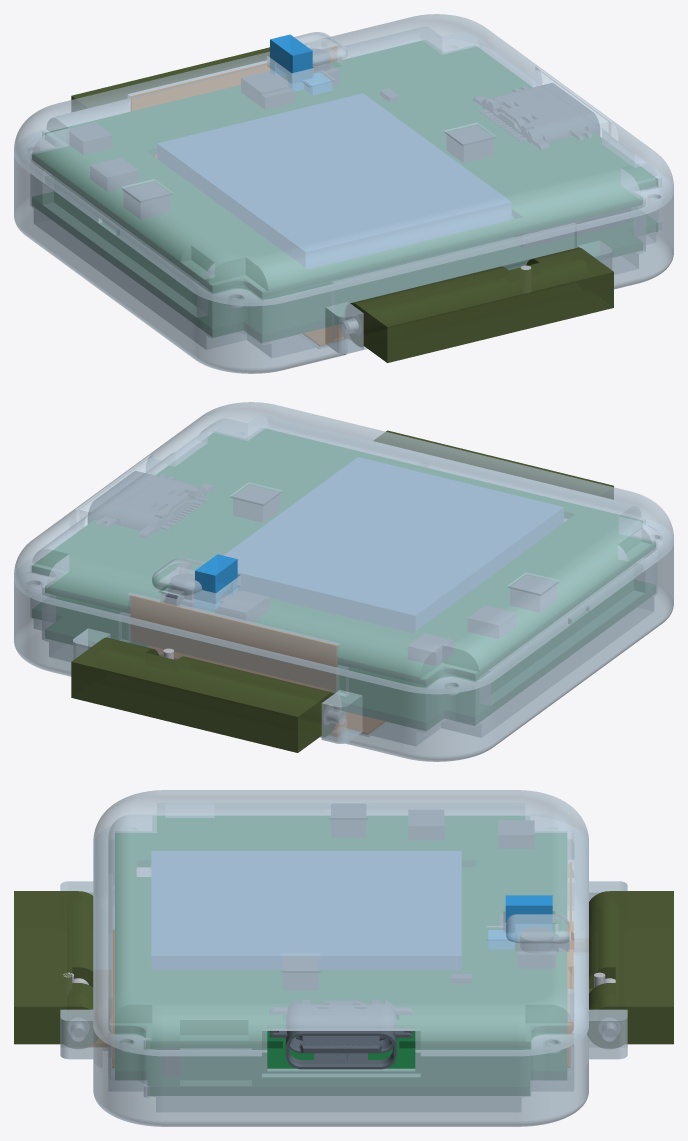
The model's file is assembly.glb.
3 renders of one model, top to bottom at view 1: azimuth 30°, elevation 25°; view 2: azimuth 150°, elevation 25°; view 3: azimuth 270°, elevation 25°, orthographic. The views are drawn at different scales.
Visible parts, largest first — view 1: cover, MCU_board, tray, battery_302025_max, south_woven_strap_loop, D17_board, MCU_USB_J400, north_woven_strap_loop, switch_plunger, FPC_ANT_2G4, MCU_SW300, MCU_U12 (+4 smaller); view 2: cover, MCU_board, tray, battery_302025_max, north_woven_strap_loop, D17_board, FPC_ANT_2G4, MCU_USB_J400, south_woven_strap_loop, switch_plunger, MCU_U12, MCU_U17 (+4 smaller); view 3: cover, MCU_board, tray, battery_302025_max, D17_board, north_woven_strap_loop, south_woven_strap_loop, MCU_USB_J400, switch_plunger, MCU_U17, MCU_U12, MCU_U14 (+4 smaller).
Boxes of the visible parts, x1,y1,x2,y2 form: cover: (14, 14, 673, 306); MCU_board: (32, 40, 657, 297); tray: (14, 130, 673, 373); battery_302025_max: (157, 93, 511, 286); south_woven_strap_loop: (346, 247, 613, 362); D17_board: (32, 191, 657, 342); MCU_USB_J400: (473, 83, 599, 150); north_woven_strap_loop: (71, 47, 269, 111); switch_plunger: (270, 34, 331, 94); FPC_ANT_2G4: (131, 46, 336, 110); MCU_SW300: (241, 71, 294, 109); MCU_U12: (124, 182, 170, 219); cover: (14, 402, 673, 694); MCU_board: (32, 428, 655, 685); tray: (14, 518, 673, 761); battery_302025_max: (224, 457, 563, 632); north_woven_strap_loop: (71, 637, 339, 752); D17_board: (32, 579, 655, 730); FPC_ANT_2G4: (131, 595, 336, 690); MCU_USB_J400: (88, 471, 214, 538); south_woven_strap_loop: (374, 430, 613, 499); switch_plunger: (195, 554, 237, 610); MCU_U12: (510, 575, 556, 612); MCU_U17: (233, 485, 279, 522); cover: (93, 790, 588, 1056); MCU_board: (115, 816, 566, 1048); tray: (60, 826, 627, 1126); battery_302025_max: (151, 851, 461, 969); D17_board: (115, 867, 566, 1095); north_woven_strap_loop: (587, 891, 673, 1048); south_woven_strap_loop: (14, 891, 98, 1048); MCU_USB_J400: (270, 1000, 412, 1069); switch_plunger: (488, 895, 552, 948); MCU_U17: (283, 956, 318, 990); MCU_U12: (331, 803, 365, 837); MCU_U14: (408, 810, 443, 839).
Bounding box in the file's own units: 0.046 × 0.0116 × 0.0532.
